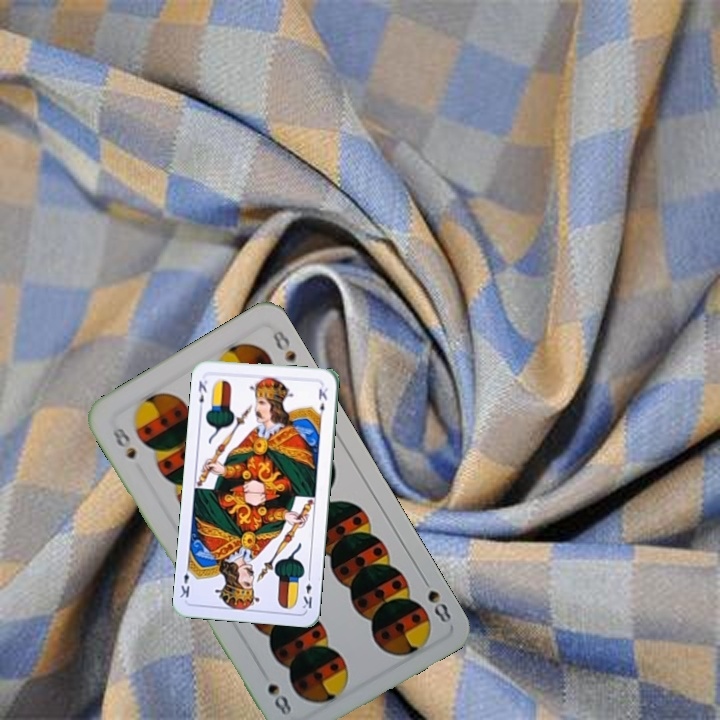EK: (299, 571, 314, 611), (194, 376, 210, 413)
S8: (417, 571, 454, 626), (108, 422, 139, 462)
